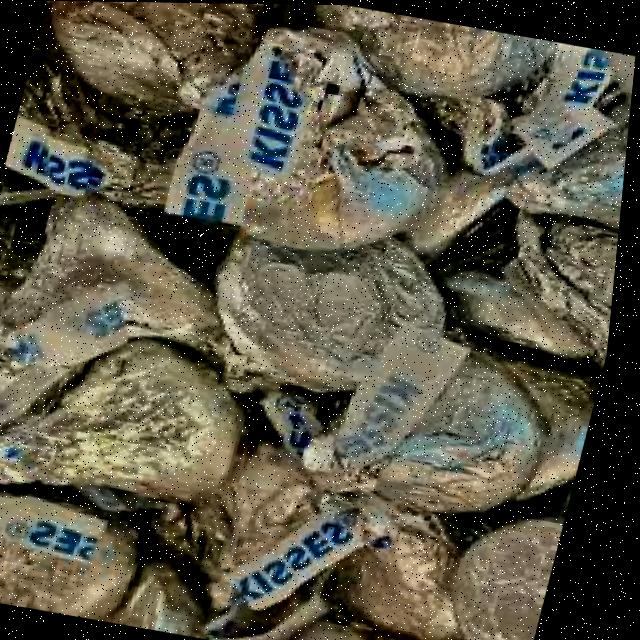kisses: (140, 33, 475, 300), (190, 201, 481, 433), (0, 309, 294, 528), (300, 319, 579, 538), (0, 175, 259, 410), (168, 430, 421, 640), (35, 1, 295, 143), (479, 62, 636, 241), (0, 481, 169, 623), (436, 498, 577, 640)
